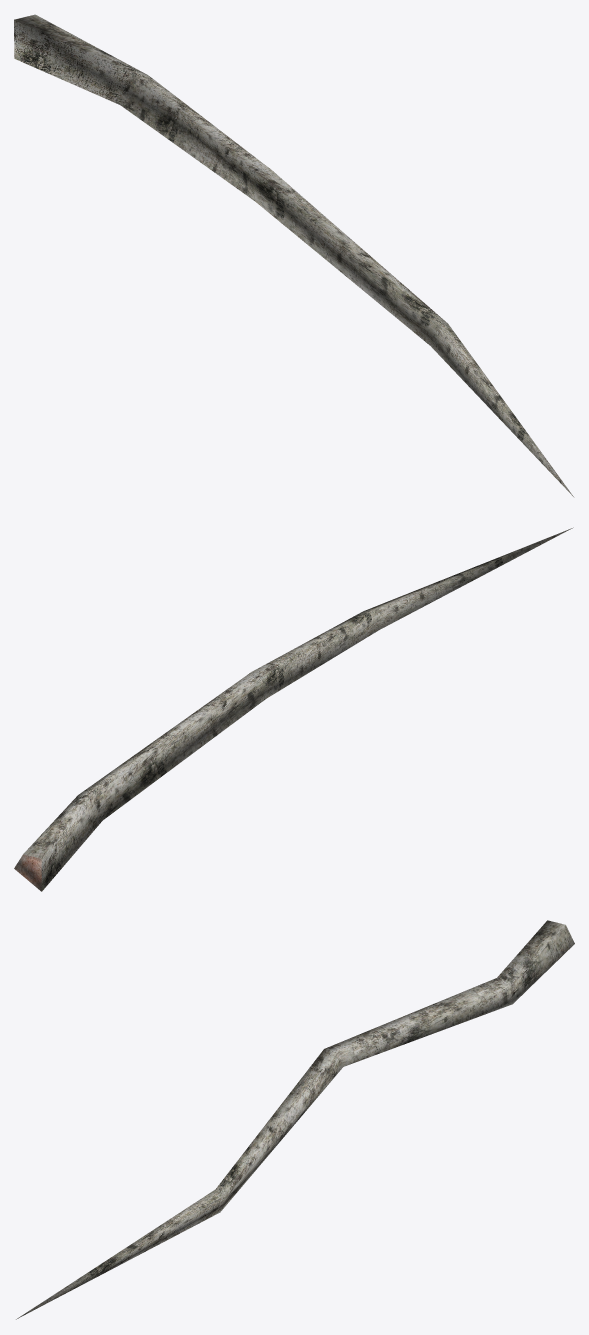
File: decd_whitebirchlog_sm_l1.fbx
3 renders of one model, top to bottom at view 1: azimuth 30°, elevation 25°; view 2: azimuth 150°, elevation 25°; view 3: azimuth 330°, elevation 25°, orthographic. The views are drawn at different scales.
Visible parts, largest first — view 1: mesh_node; view 2: mesh_node; view 3: mesh_node.
Part boxes in pixels (<box>): mesh_node: <box>14,14,574,497</box>; mesh_node: <box>14,527,573,891</box>; mesh_node: <box>16,920,574,1319</box>.
Size of the model in its own units: 0.7585 by 0.6756 by 10.02.
